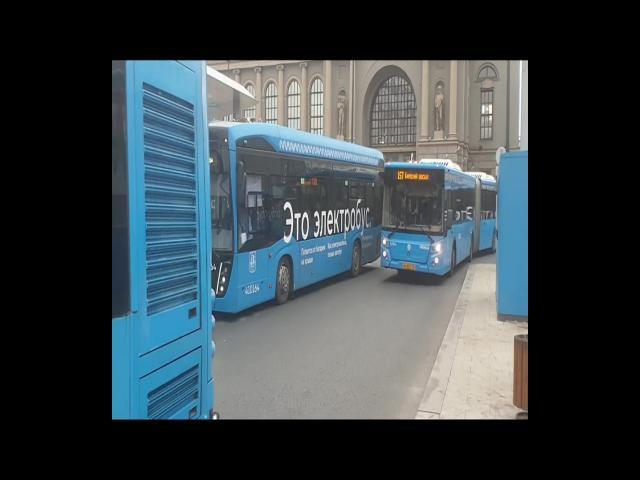bus: (212, 121, 384, 315), (382, 161, 497, 275)
